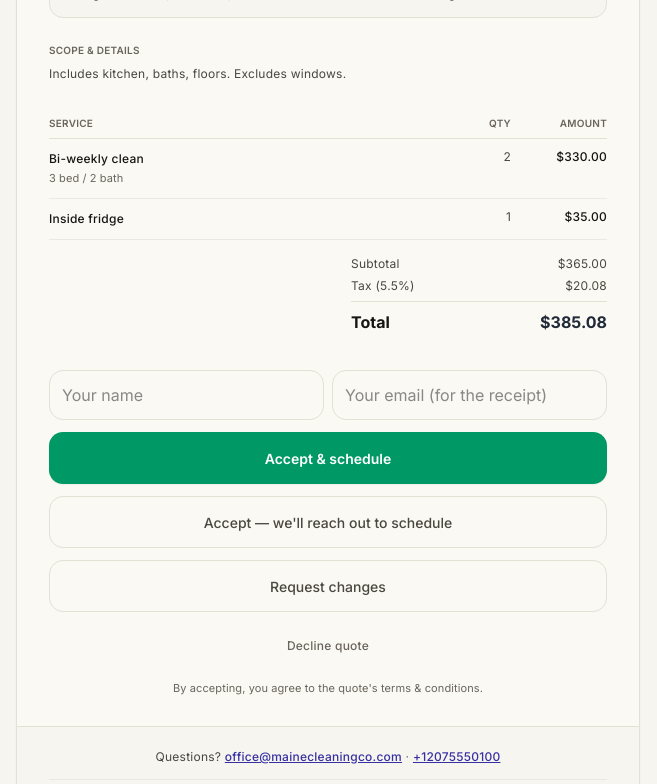
Test: PublicQuote accept flow (e-sign + document stays visible) › posts typed name/email and keeps the document with an Accepted banner
The image size is (657, 784).
(page scrolled)
Expected: the button "Accept — we'll reach out to schedule" is shown, [49,496,607,548]
Type "Megan Small" into the field with placeholder "Your name" at (186, 395), box [49,370,324,420]
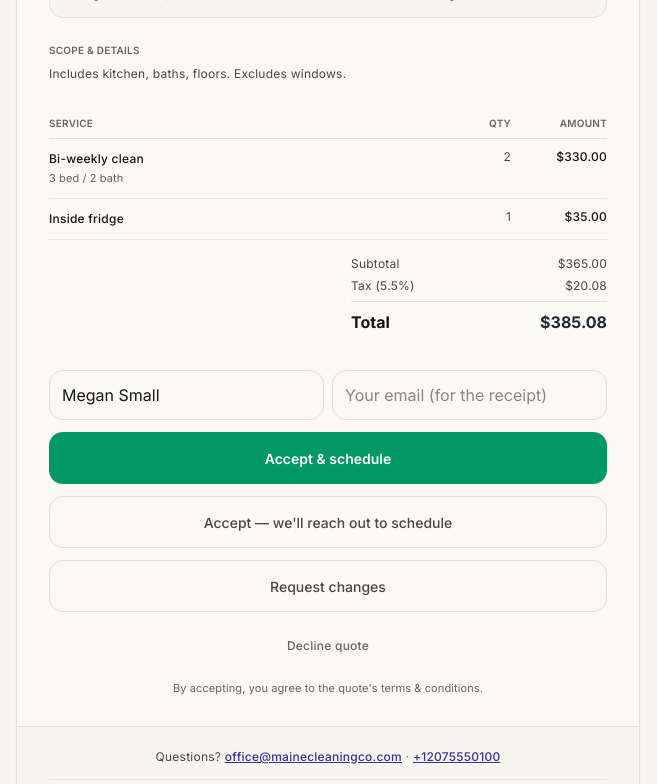
Type "megan@example.com" into the field with placeholder "Your email (for the receipt)" at (470, 395), box [332,370,607,420]
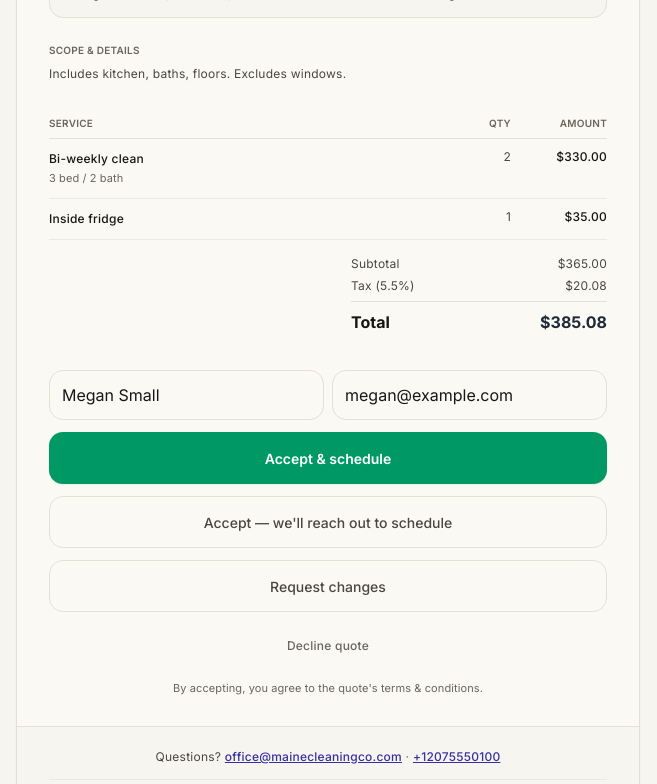
Click the button "Accept — we'll reach out to schedule" at (328, 522), box [49,496,607,548]
(page scrolled)
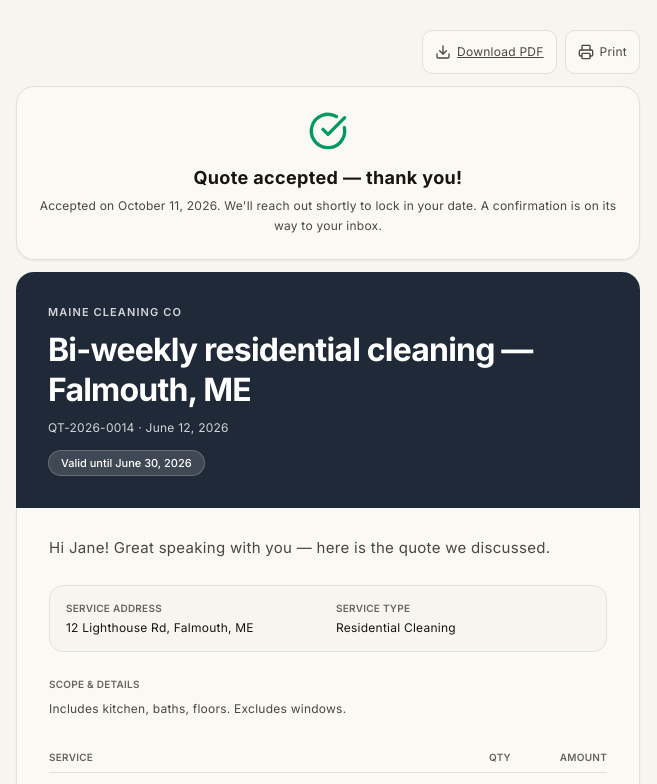
Expected: the heading "Bi-weekly residential cleaning — Falmouth, ME" is shown, [48,330,608,410]
Result: the text "Quote accepted — thank you!" is shown at [193,167,462,188]
